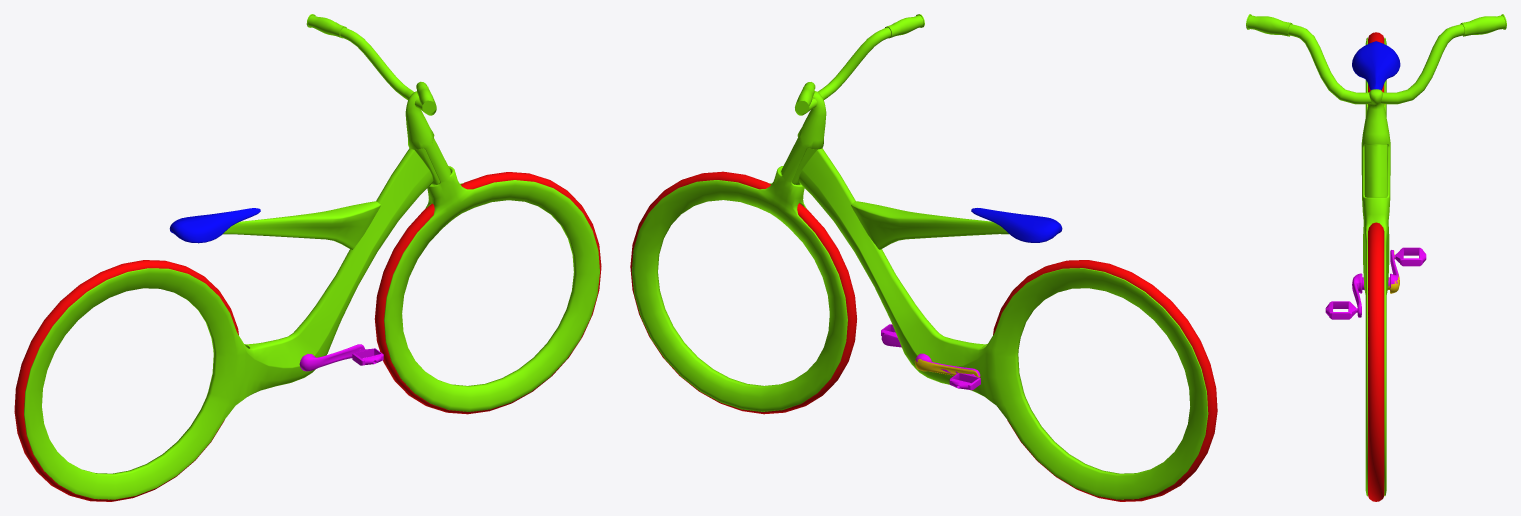
File: Velo_03.FBX
3 views of the same model, side by side, from view 1: azimuth 30°, elevation 25°; view 2: azimuth 150°, elevation 25°; view 3: azimuth 270°, elevation 25° (orthographic). The views are drawn at different scales.
Parts seen in each view (by area): view 1: Velo, Guidon_05, O_Pneu_Arriere, O_Pneu_Avant, O_Pedale-D; view 2: Velo, Guidon_05, O_Pneu_Arriere, O_Pneu_Avant, O_Levier-D001+PedaleG; view 3: Guidon_05, O_Pneu_Avant, Velo, O_Levier-D001+PedaleG, O_Pedale-D.
Part boxes in pixels (x1,y1,x2,y2): Velo: (24,138,450,499); Guidon_05: (306,14,599,411); O_Pneu_Arriere: (14,260,238,501); O_Pneu_Avant: (374,172,601,414); O_Pedale-D: (299,344,383,371); Velo: (781,138,1208,499); Guidon_05: (631,14,924,411); O_Pneu_Arriere: (993,260,1217,501); O_Pneu_Avant: (630,171,856,414); O_Levier-D001+PedaleG: (914,353,980,390); Guidon_05: (1246,14,1506,496); O_Pneu_Avant: (1368,222,1384,501); Velo: (1352,37,1400,294); O_Levier-D001+PedaleG: (1387,247,1426,293); O_Pedale-D: (1325,273,1364,319).
Bounding box in the file's own units: 153 × 95.86 × 54.89.
